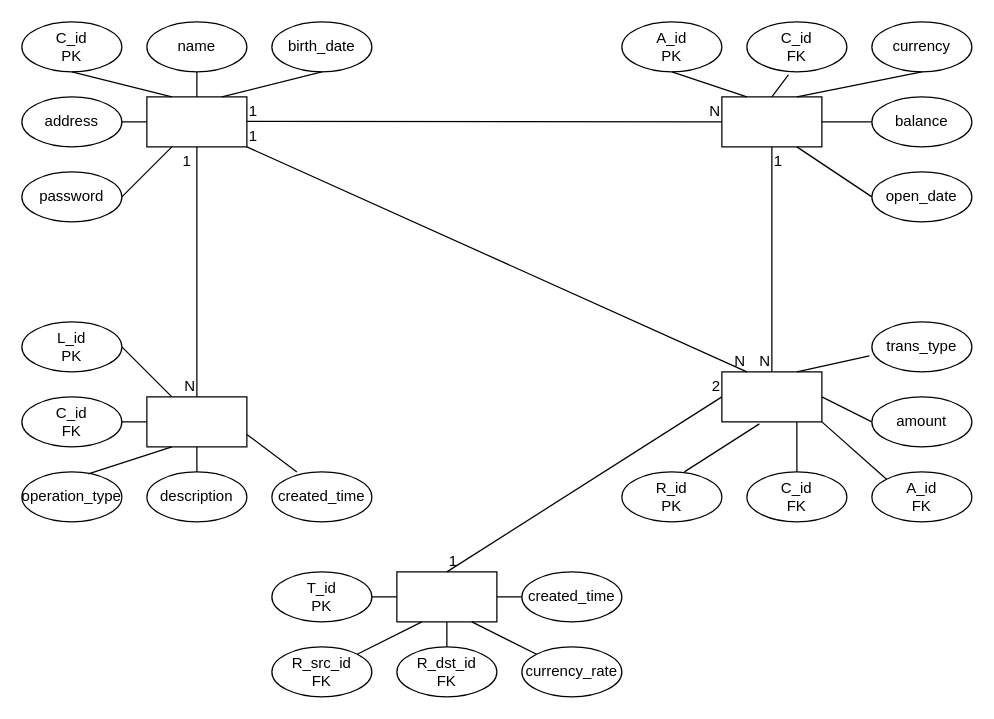
The diagram is 994 pixels wide and 719 high, and some of its shapes have lost their labels. The centre of each missing label's shape, as x and y in pixels:
"Account" belongs at point 771,121.
"Customer" belongs at point 196,121.
"Logs" belongs at point 196,421.
"Records" belongs at point 771,396.
"Transfer" belongs at point 446,596.
